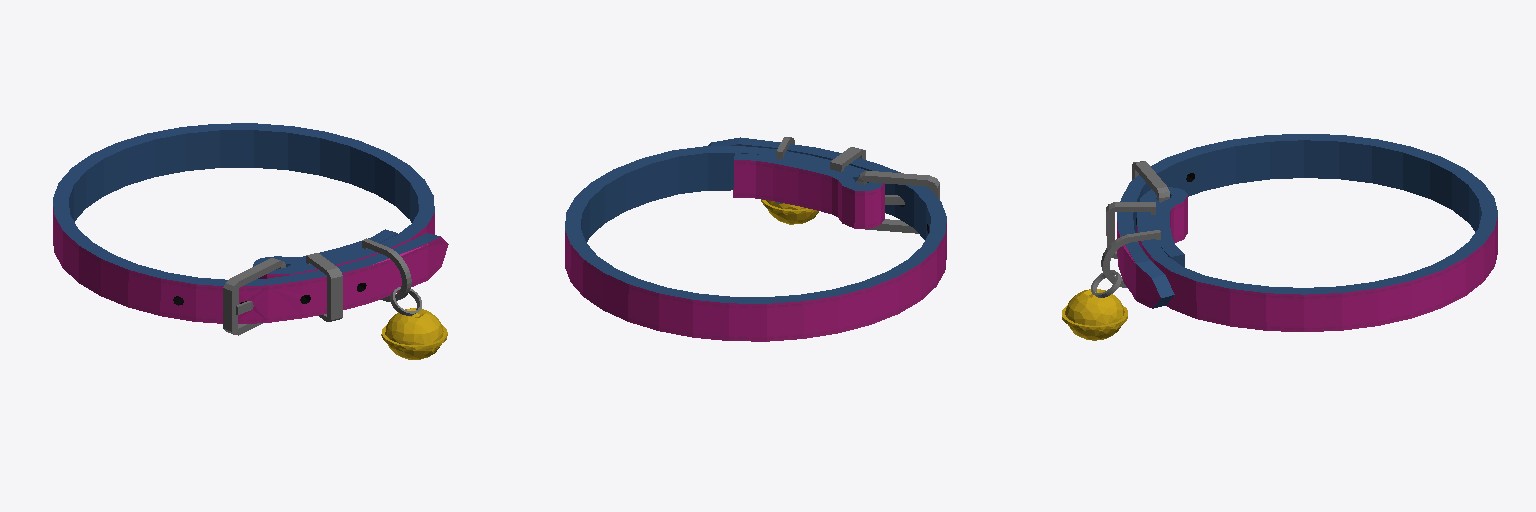
3 views of the same model, side by side, from view 1: azimuth 30°, elevation 25°; view 2: azimuth 150°, elevation 25°; view 3: azimuth 270°, elevation 25° (orthographic).
Parts seen in each view (by area): view 1: collar:Mesh; view 2: collar:Mesh; view 3: collar:Mesh.
Part boxes in pixels (left/top/right/bottom): collar:Mesh: left=53, top=123, right=448, bottom=359; collar:Mesh: left=565, top=137, right=946, bottom=341; collar:Mesh: left=1062, top=134, right=1497, bottom=340.
Size of the model in its own units: 3.29 by 0.9417 by 3.78.
Materials: 1 (1 with a texture image).